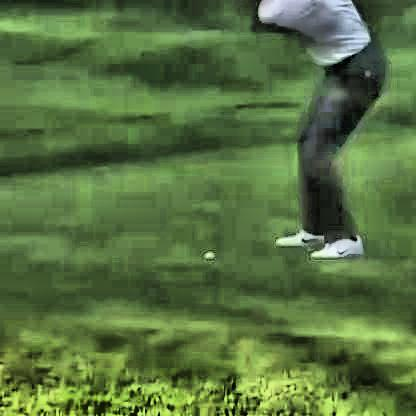golfball: (202, 250, 212, 257)
